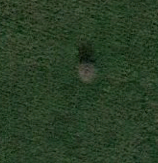tree: (75, 57, 100, 85)
